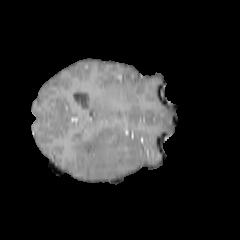glioma: (71, 126, 146, 179)
